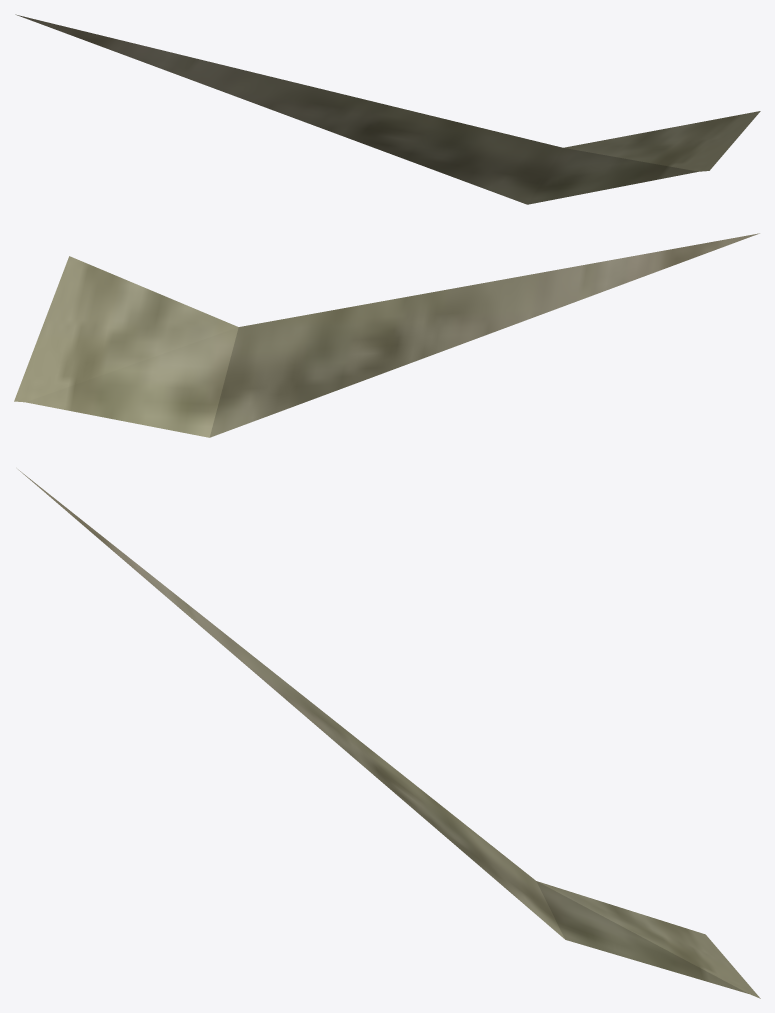
The picture shows the model from 3 angles, top to bottom: view 1: azimuth 30°, elevation 25°; view 2: azimuth 150°, elevation 25°; view 3: azimuth 330°, elevation 25°; orthographic projection. The views are drawn at different scales.
Size of the model in its own units: 1.28 by 0.573 by 0.1638.
Materials: 1 (1 with a texture image).
